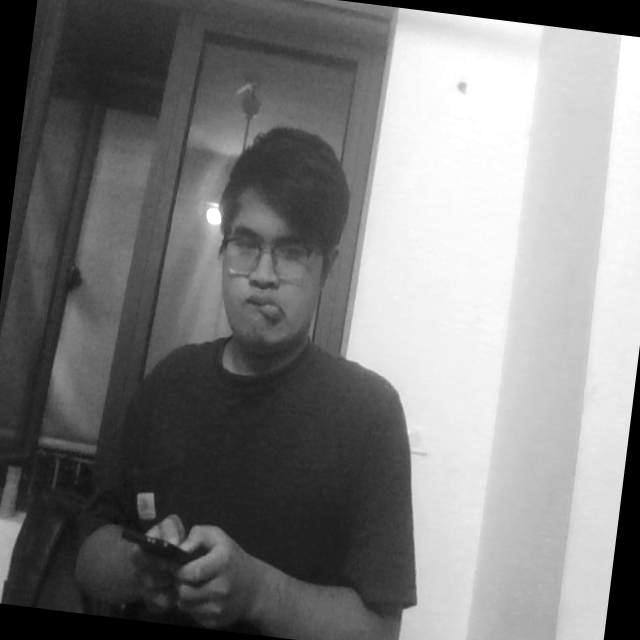phone: (98, 510, 213, 587)
